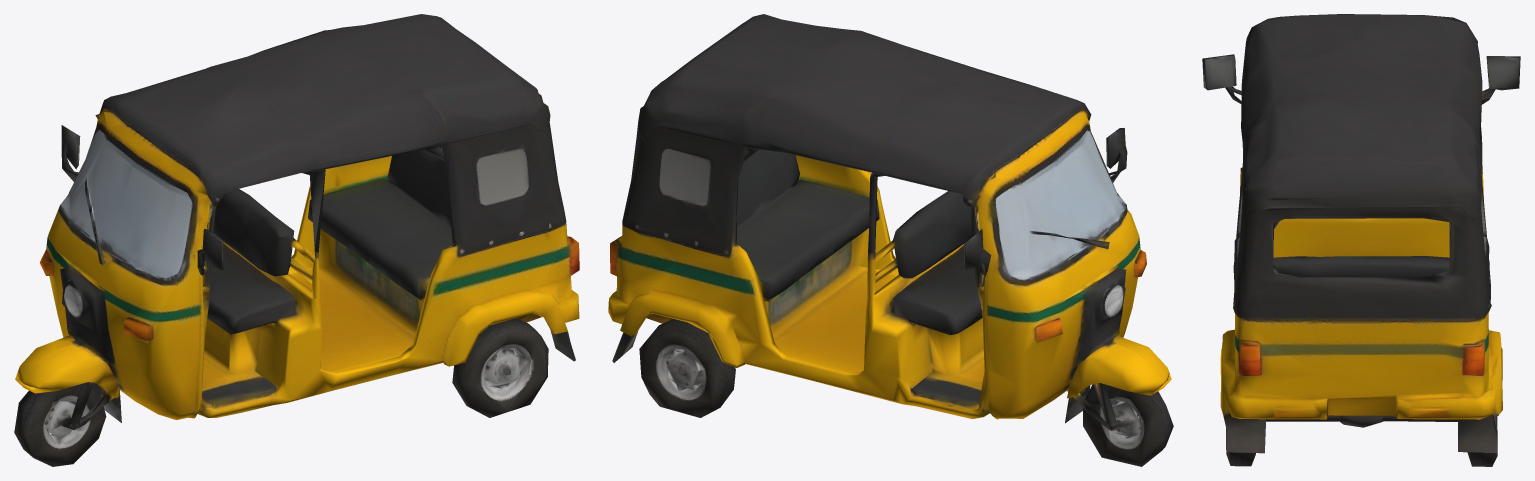
File: keke.glb
3 renders of one model, left to right at view 1: azimuth 30°, elevation 25°; view 2: azimuth 150°, elevation 25°; view 3: azimuth 270°, elevation 25°, orthographic.
Parts seen in each view (by area): view 1: tripo_node_a7ffed43-42bb-4ba4-917d-2861f0723ee4; view 2: tripo_node_a7ffed43-42bb-4ba4-917d-2861f0723ee4; view 3: tripo_node_a7ffed43-42bb-4ba4-917d-2861f0723ee4.
Part boxes in pixels (box(x1,y1,x2,y2)): tripo_node_a7ffed43-42bb-4ba4-917d-2861f0723ee4: box(14, 14, 579, 466); tripo_node_a7ffed43-42bb-4ba4-917d-2861f0723ee4: box(608, 14, 1173, 466); tripo_node_a7ffed43-42bb-4ba4-917d-2861f0723ee4: box(1202, 14, 1520, 466).
Bounding box in the file's own units: 1 × 0.6295 × 0.5486.
1 material, 1 textured.
